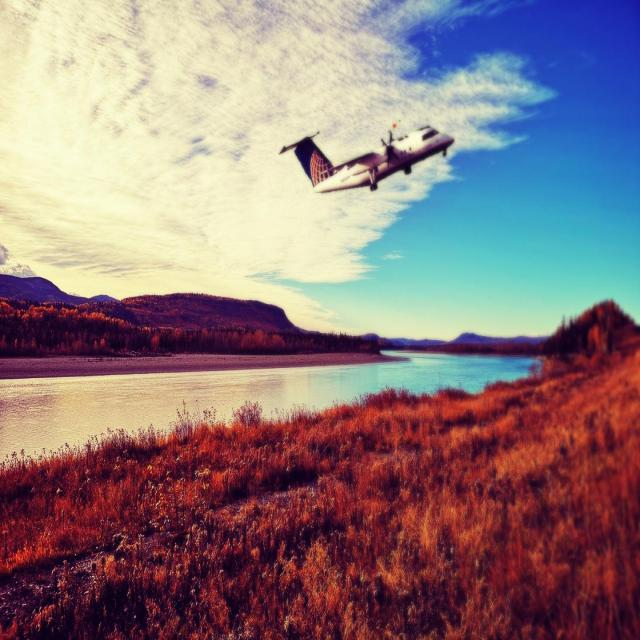airplane: (278, 122, 454, 194)
